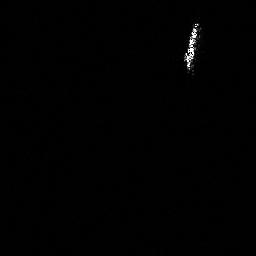ship: (179, 21, 201, 73)
